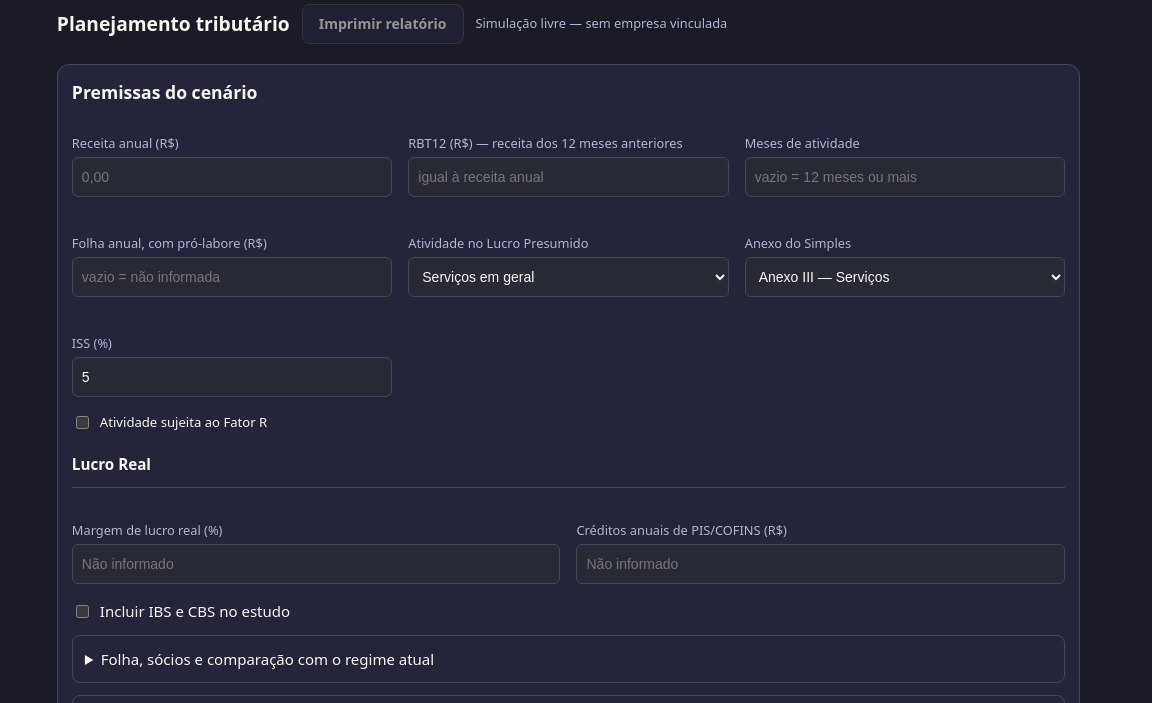
Test case: na sexta faixa não apresenta o DAS atual como calculado para 2027
Click the checkbox labelled "Incluir IBS e CBS no estudo" at (82, 611), box [76, 605, 89, 618]
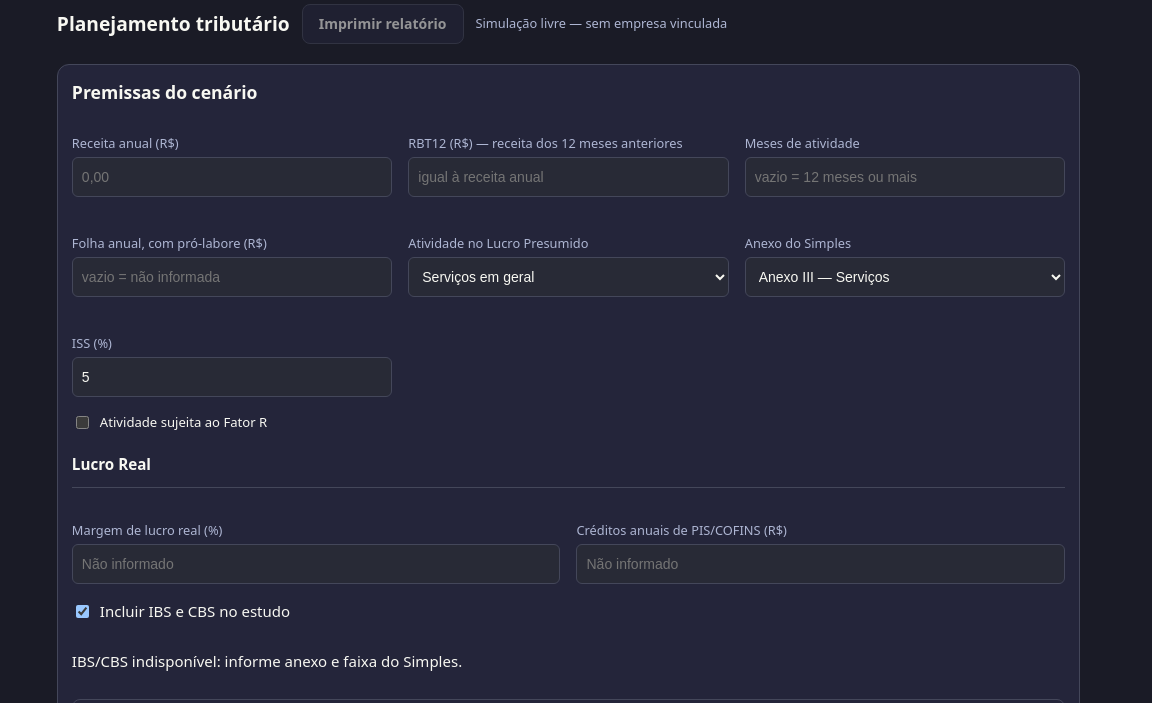
Type "400000000" into the field labelled "Receita anual (R$)" at (232, 177), box [72, 157, 392, 197]
(page scrolled)
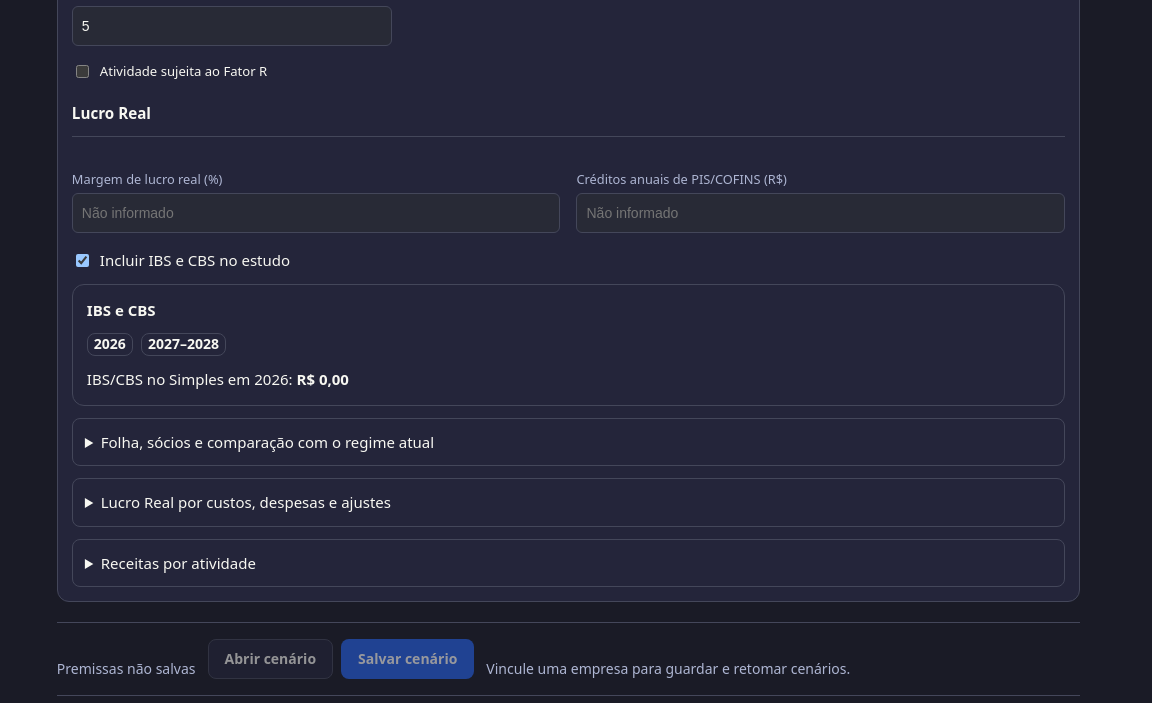
Click the button "2027–2028" at (183, 345), box [141, 333, 226, 356]
(page scrolled)
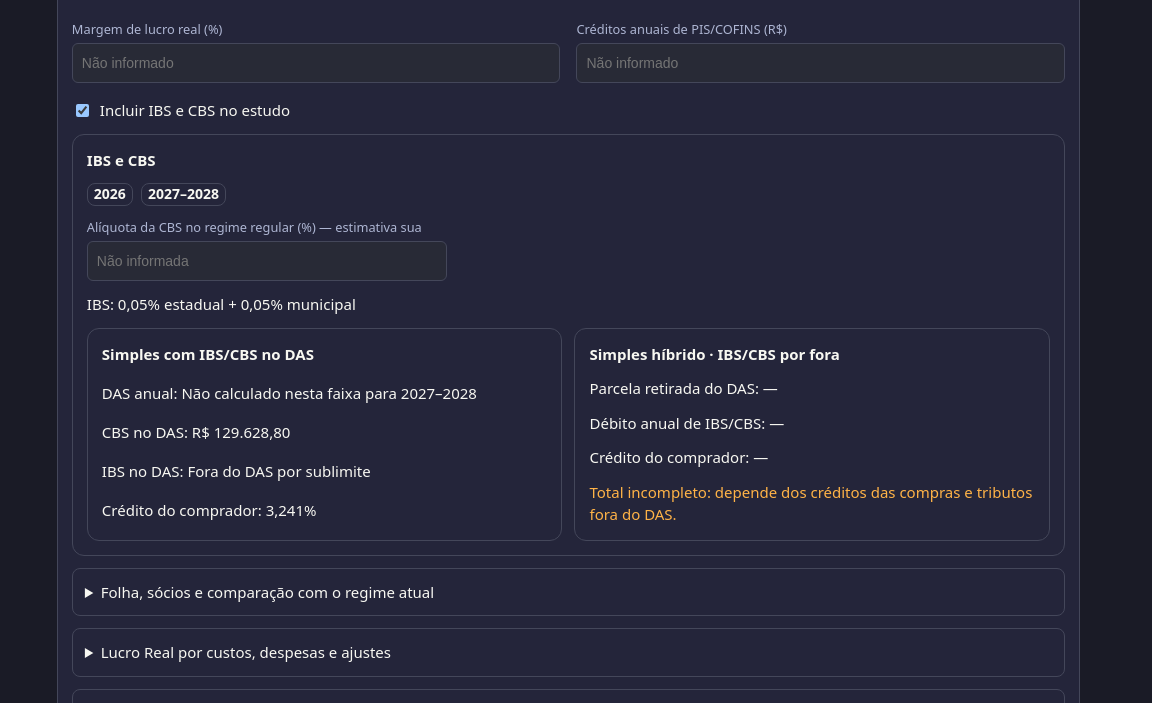
Expected: the element named "IBS e CBS no Simples Nacional" shows "DAS anual: Não calculado nesta faixa para 2027–2028", [72, 134, 1065, 556]
